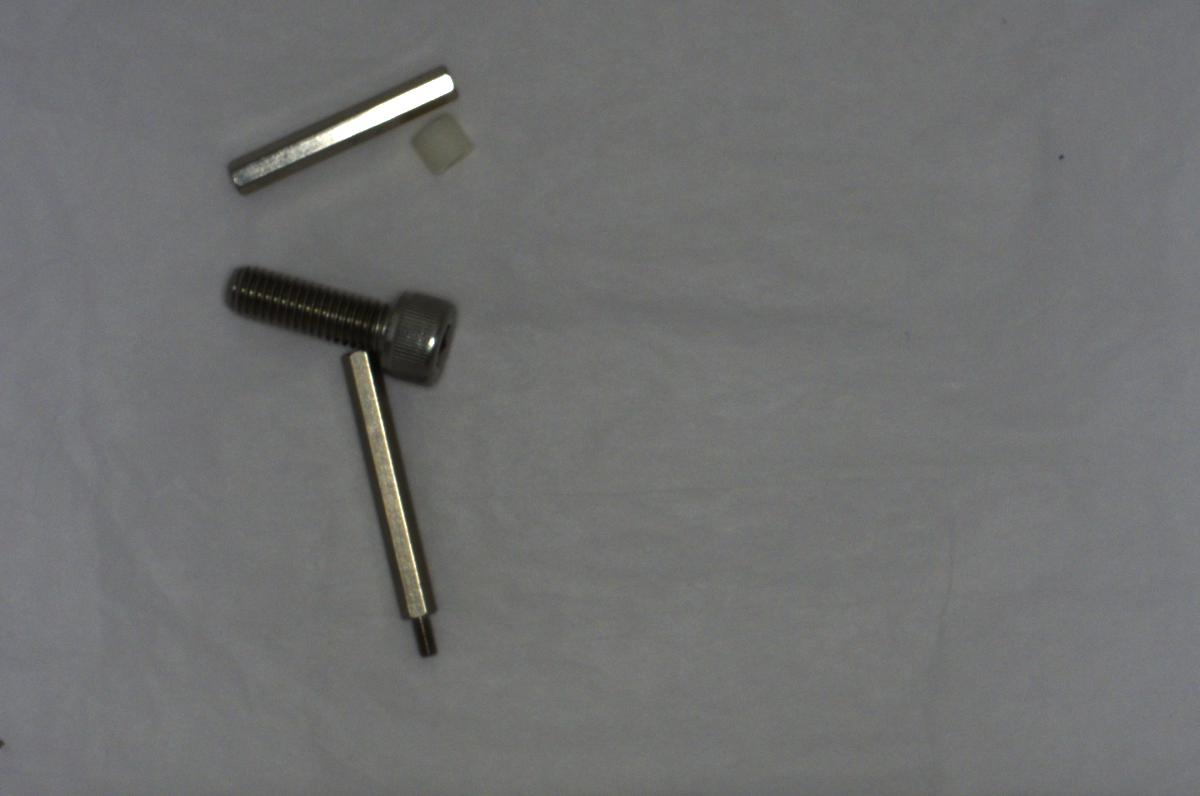Double hexagonal column: (224, 61, 475, 196)
Hexagon screw: (219, 261, 457, 385)
Hexagonal steel column: (337, 338, 452, 667)
Plastic cushion pillar: (404, 114, 482, 175)
